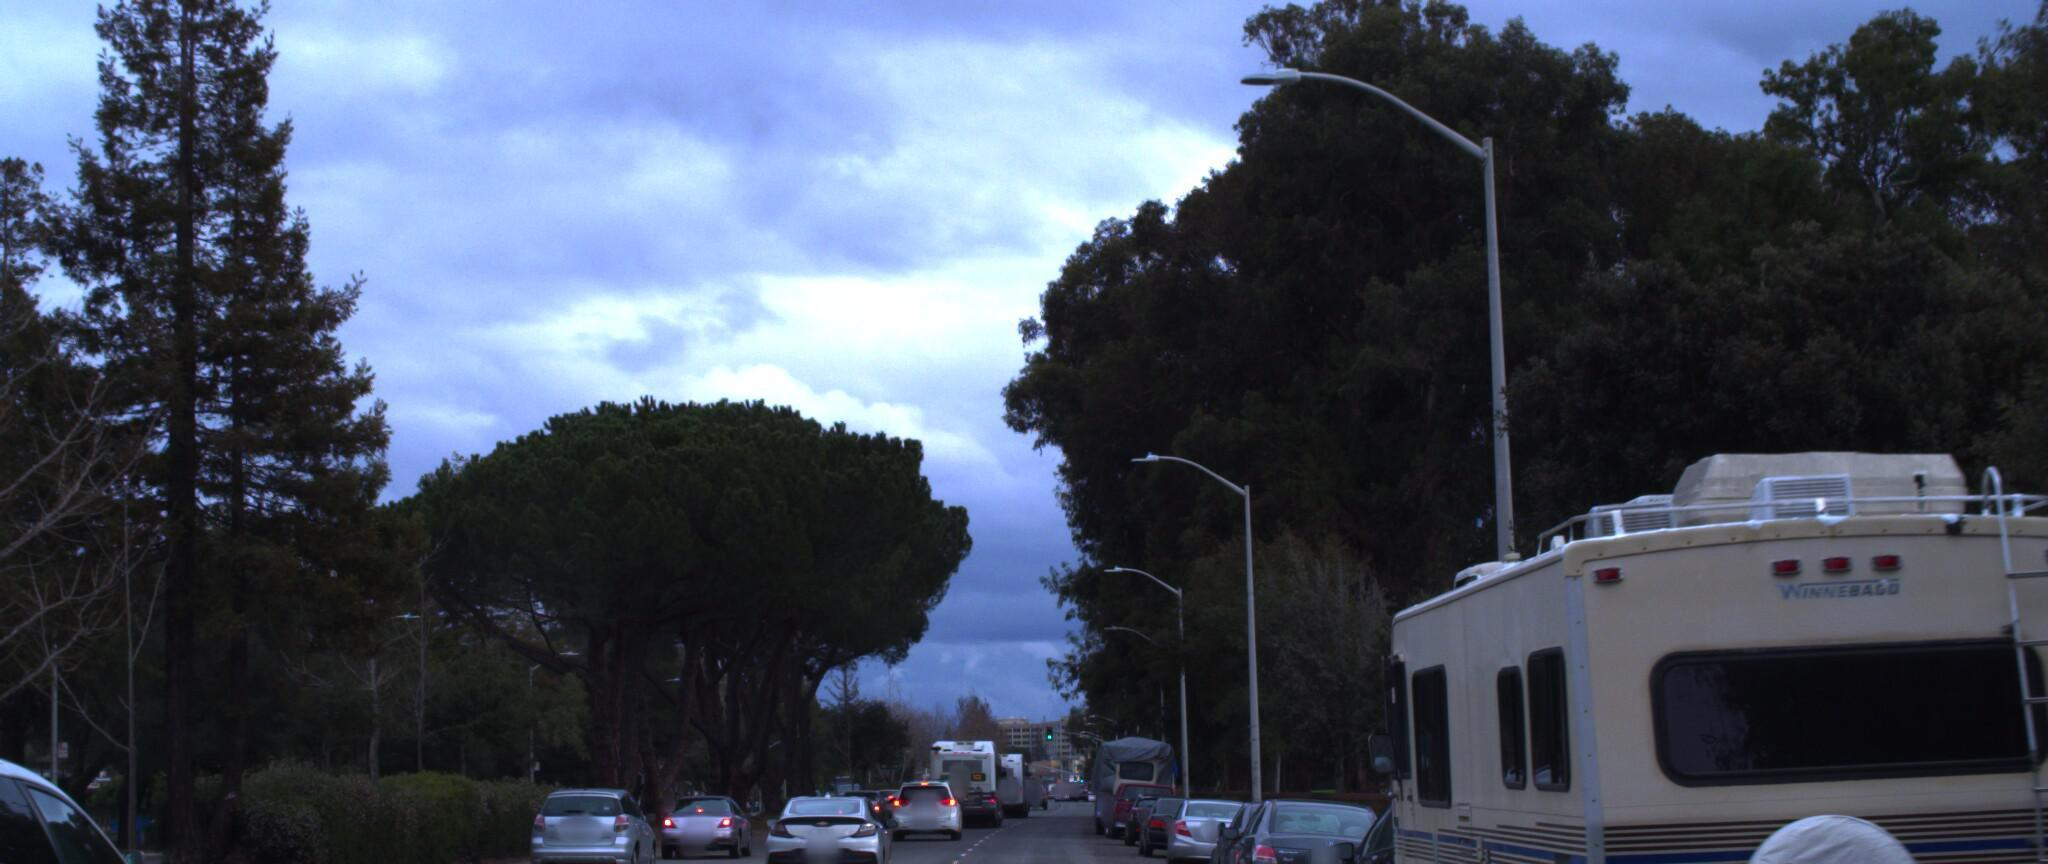car: (0, 608, 360, 864), (1310, 765, 1643, 864), (0, 775, 210, 864), (1212, 777, 1421, 864), (512, 771, 661, 864), (748, 779, 889, 864), (644, 773, 750, 854), (1161, 786, 1263, 864)
other_vehicle: (1343, 345, 2048, 864)
